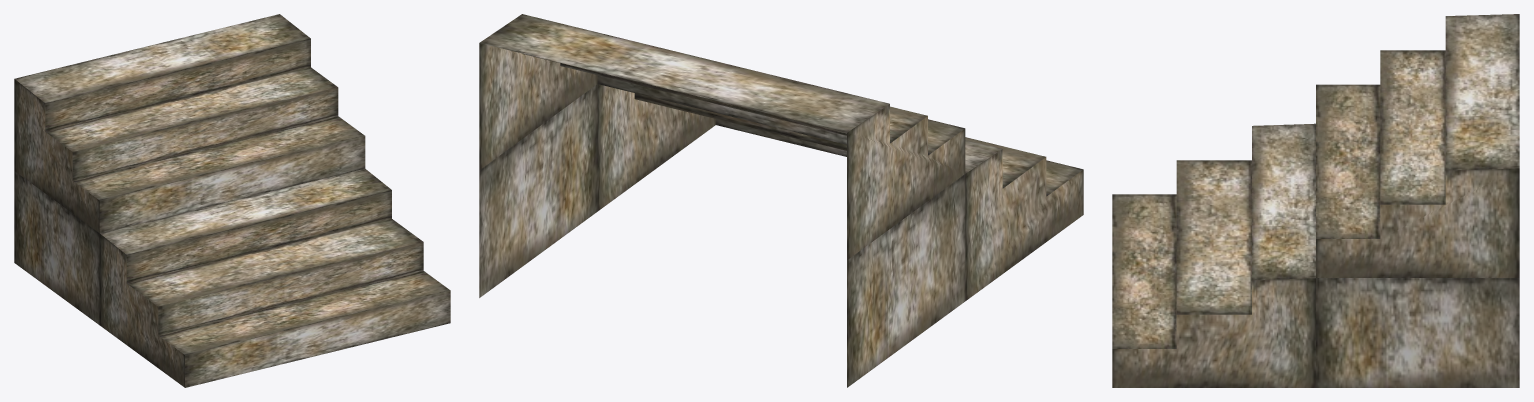
The model's file is stone_stairs.fbx.
The picture shows the model from 3 angles, left to right: view 1: azimuth 30°, elevation 25°; view 2: azimuth 150°, elevation 25°; view 3: azimuth 270°, elevation 25°; orthographic projection. The views are drawn at different scales.
Visible parts, largest first — view 1: stone_stairs1; view 2: stone_stairs1; view 3: stone_stairs1.
Boxes of the visible parts, x1,y1,x2,y2 form: stone_stairs1: [14, 14, 450, 387]; stone_stairs1: [479, 14, 1083, 387]; stone_stairs1: [1112, 14, 1519, 387].
Bounding box in the file's own units: 1000 × 663 × 1114.
1 material, 1 textured.
